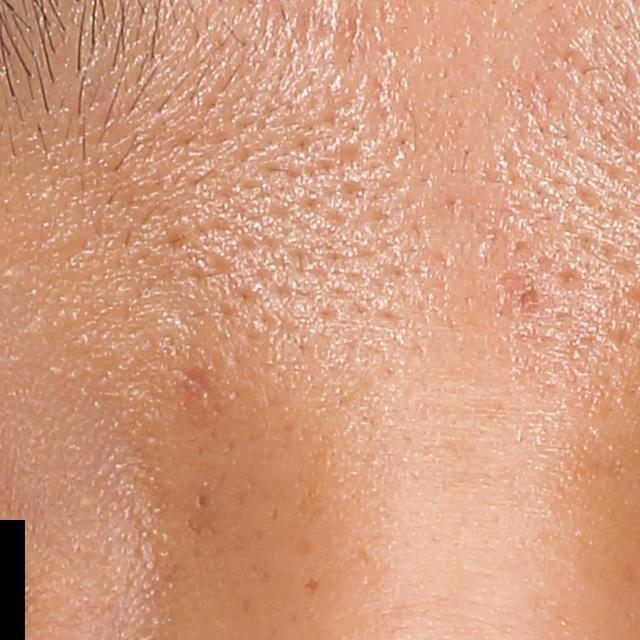comedo: (193, 492, 211, 512)
